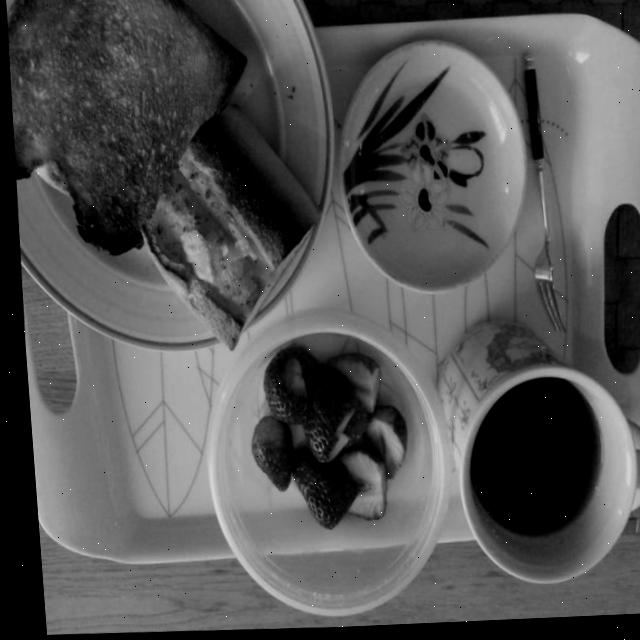面包点心: (6, 90, 234, 420)
